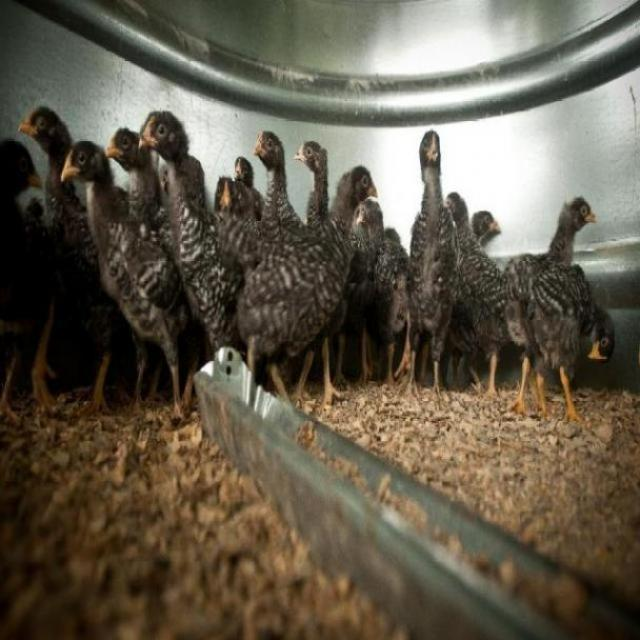Chicken: (494, 254, 623, 428), (503, 194, 601, 414), (436, 180, 516, 392), (408, 130, 461, 384), (0, 141, 43, 426), (463, 201, 500, 247)
